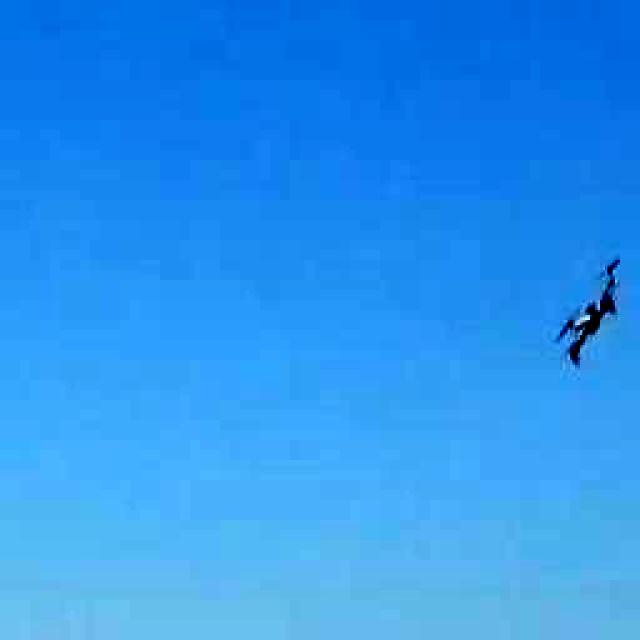bird: (524, 261, 640, 374)
